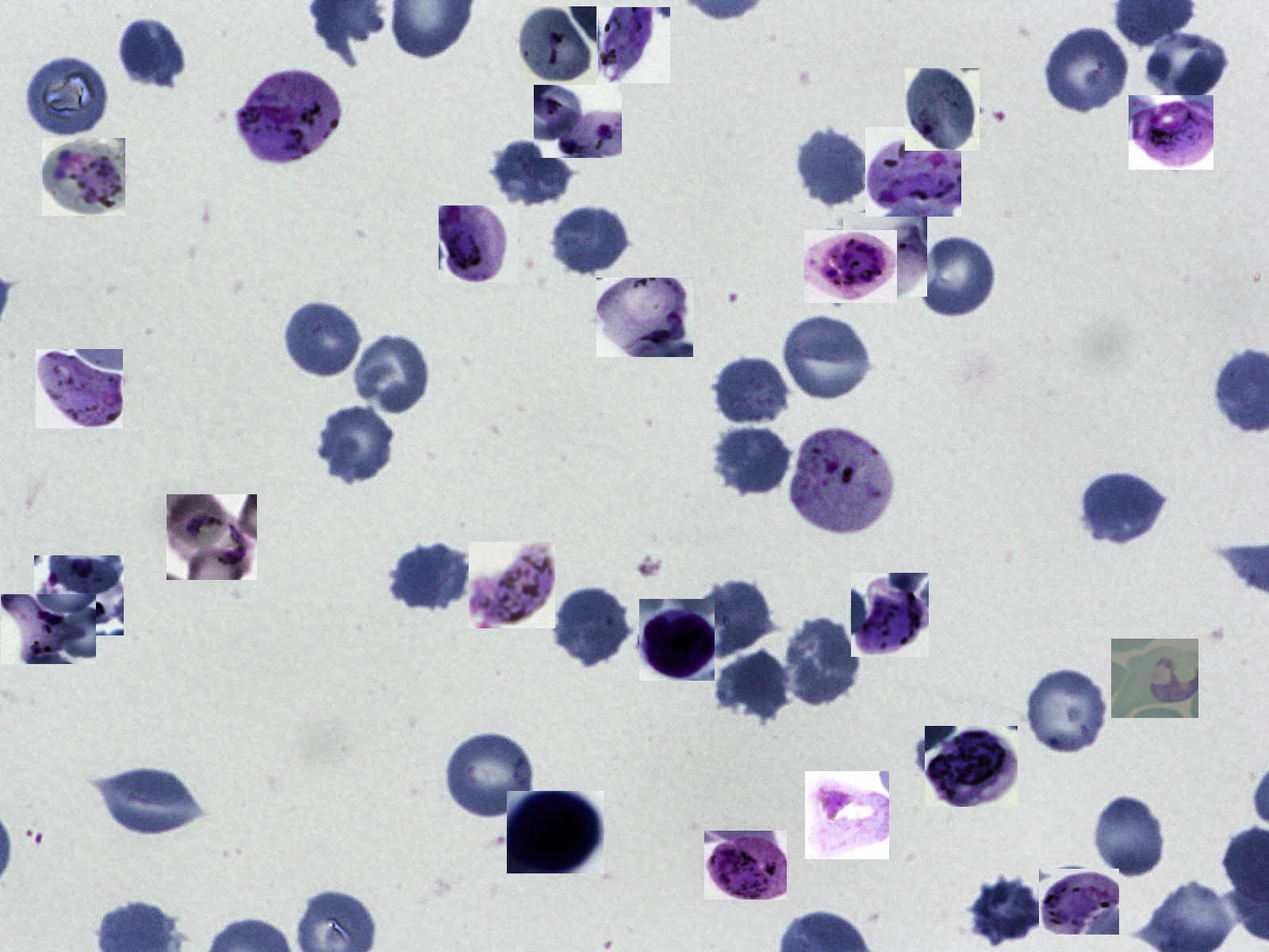Infected: (791, 426, 895, 536), (236, 68, 339, 166), (865, 127, 961, 217), (507, 791, 604, 873), (167, 495, 257, 581), (596, 278, 693, 357), (925, 726, 1018, 807), (469, 542, 555, 628), (805, 771, 889, 859), (35, 555, 124, 635), (843, 213, 927, 297), (534, 79, 622, 158), (36, 349, 123, 428), (1111, 639, 1198, 718), (804, 230, 897, 303), (1, 594, 96, 664), (851, 573, 929, 657), (42, 138, 125, 216), (1129, 95, 1213, 170), (639, 599, 715, 681), (905, 68, 980, 151), (439, 205, 518, 282), (519, 6, 596, 85), (704, 831, 787, 900), (598, 7, 670, 83), (1039, 869, 1119, 935)
Uninfected: (443, 728, 539, 822), (780, 314, 876, 404), (94, 765, 204, 840), (779, 613, 864, 709), (1044, 25, 1133, 115), (1023, 667, 1110, 759), (688, 573, 776, 658), (26, 56, 109, 140), (795, 123, 874, 209), (1080, 470, 1168, 547), (918, 235, 999, 317), (317, 401, 397, 484), (354, 332, 433, 416), (710, 422, 796, 499), (1091, 794, 1167, 881), (282, 298, 362, 380), (551, 586, 631, 667), (386, 541, 472, 616), (712, 645, 795, 722), (1144, 25, 1229, 100), (487, 135, 576, 206), (712, 354, 792, 429), (548, 207, 629, 279), (117, 16, 190, 93), (972, 876, 1046, 946)
